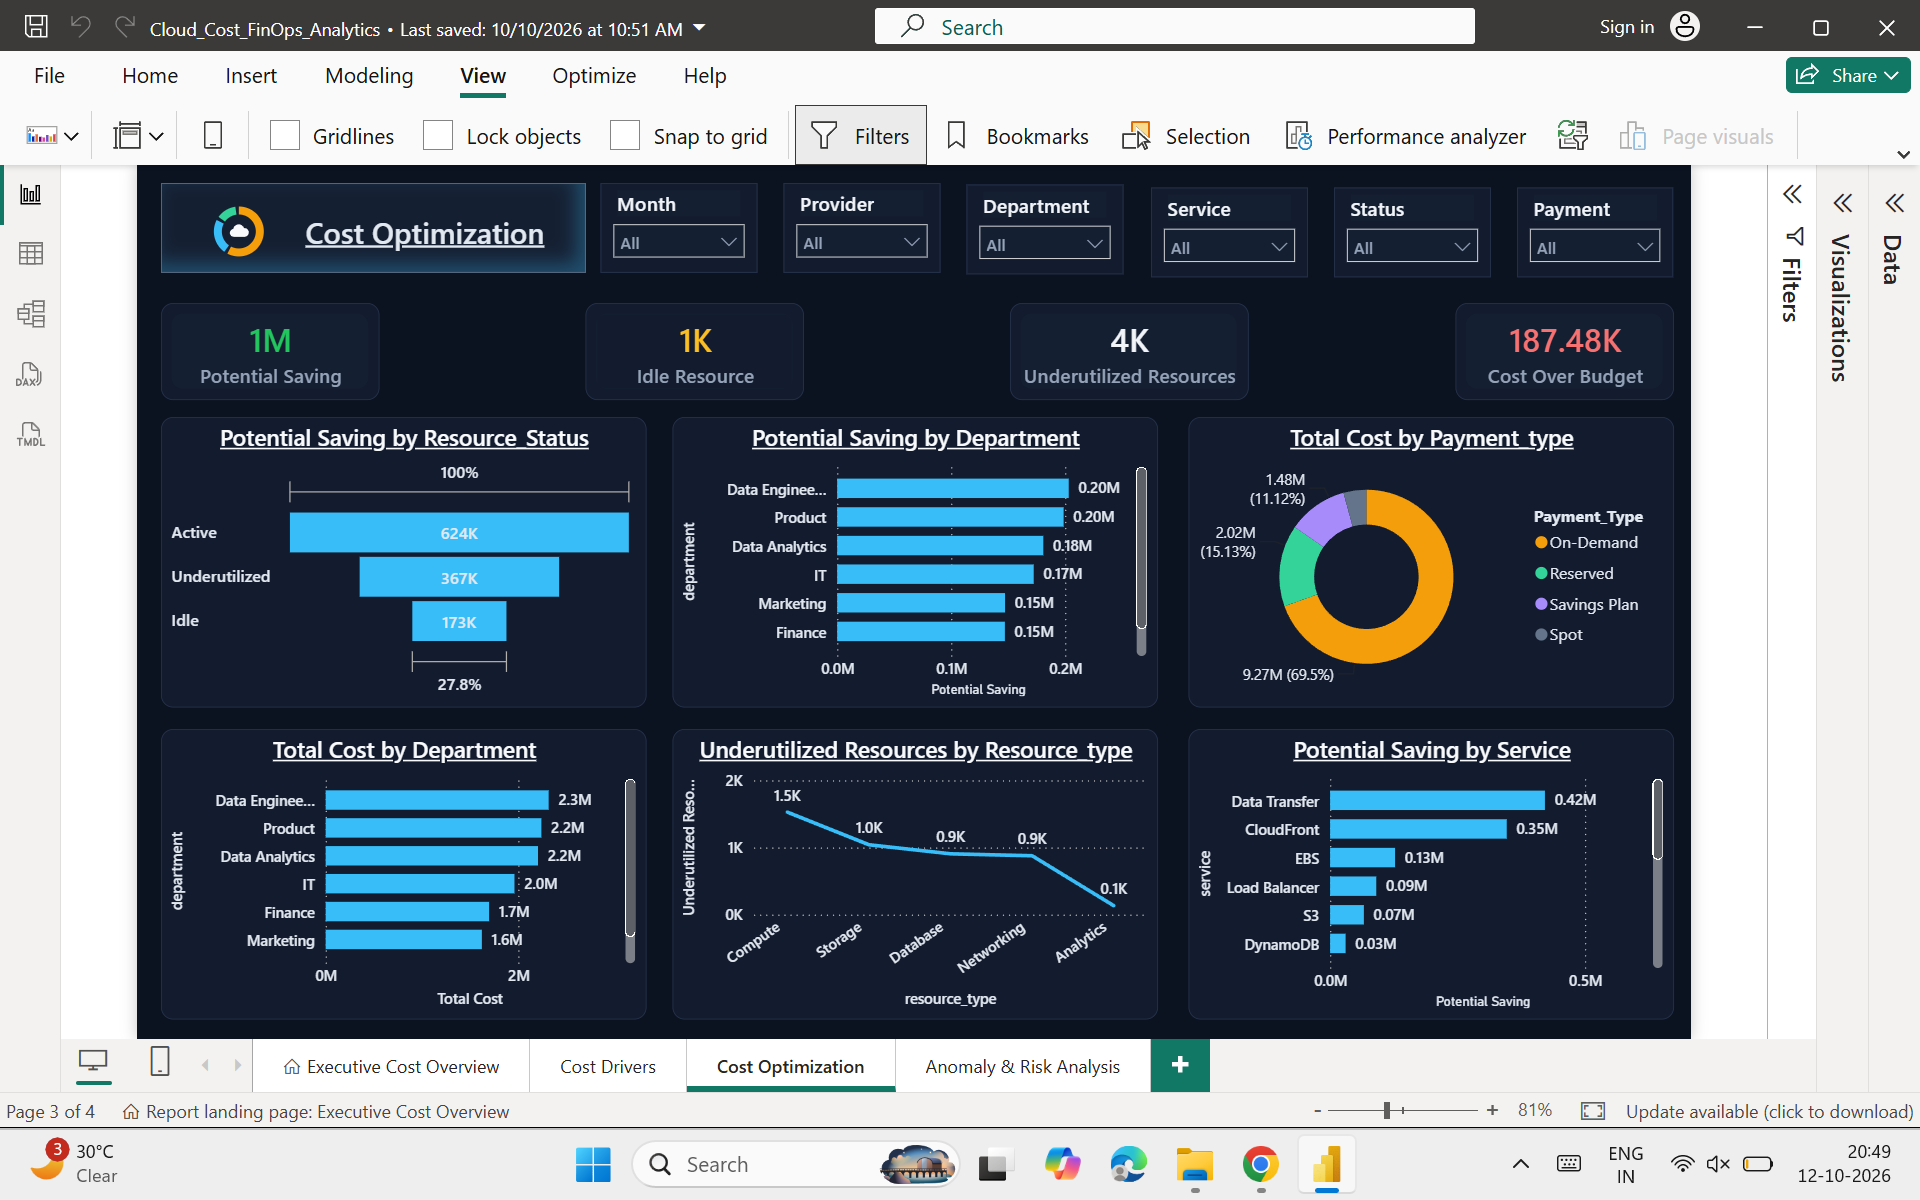

This screenshot's page, from the dashboard's own definition file:
{"tool":"powerbi","page":{"name":"Cost Optimization","canvas":[1280,720],"ordinal":2},"visuals":[{"type":"cardVisual","fields":{"Data":["measures (2).Potential Saving"]},"box":[19.7,114.1,180.2,80],"z":0},{"type":"cardVisual","fields":{"Data":["measures (2).Idle Resource"]},"box":[369.5,113.7,180,80],"z":1000},{"type":"cardVisual","fields":{"Data":["measures (2).Over Budget Cost"]},"box":[1085.7,113.6,180.2,80],"z":2000},{"type":"cardVisual","fields":{"Data":["measures (2).Underutilized Resources"]},"box":[719.2,114.1,196.8,80],"z":3000},{"type":"textbox","box":[19.7,15.1,349.8,74.2],"z":4000},{"type":"clusteredBarChart","title":"Potential Saving by Service","fields":{"Category":["cloud_cost_finops_cleaned.service"],"Y":["measures (2).Potential Saving"]},"box":[866.1,464.9,400,239.2],"z":5000},{"type":"clusteredBarChart","title":"Potential Saving by Department","fields":{"Category":["cloud_cost_finops_cleaned.department"],"Y":["measures (2).Potential Saving"]},"box":[440.6,207.4,399.8,239.2],"z":6000},{"type":"donutChart","title":"Total Cost by Payment_type","fields":{"Category":["cloud_cost_finops_cleaned.payment_type"],"Y":["measures (2).Total Cost"]},"box":[866.1,207.4,399.8,239.2],"z":7000},{"type":"clusteredBarChart","title":"Total Cost by Department","fields":{"Category":["cloud_cost_finops_cleaned.department"],"Y":["measures (2).Total Cost"]},"box":[19.7,464.9,400,239.2],"z":8000},{"type":"funnel","title":"Potential Saving by Resource_Status","fields":{"Category":["cloud_cost_finops_cleaned.resource_status"],"Y":["measures (2).Potential Saving"]},"box":[19.7,207.4,399.8,239.2],"z":9000},{"type":"lineChart","title":"Underutilized Resources by Resource_type","fields":{"Category":["cloud_cost_finops_cleaned.resource_type"],"Y":["measures (2).Underutilized Resources"]},"box":[440.6,464.9,399.8,239.2],"z":10000},{"type":"slicer","fields":{"Values":["cloud_cost_finops_cleaned.date.Variation.Date Hierarchy.Month"]},"box":[381.6,15.1,129,74],"z":11000},{"type":"slicer","fields":{"Values":["cloud_cost_finops_cleaned.department"]},"box":[683.8,16.7,129,74],"z":12000},{"type":"slicer","fields":{"Values":["cloud_cost_finops_cleaned.service"]},"box":[834.9,18.2,129,74],"z":13000},{"type":"slicer","fields":{"Values":["cloud_cost_finops_cleaned.resource_status"]},"box":[986.1,18.2,129,74],"z":14000},{"type":"slicer","fields":{"Values":["cloud_cost_finops_cleaned.payment_type"]},"box":[1137.2,18.2,128.7,74.2],"z":15000},{"type":"slicer","fields":{"Values":["cloud_cost_finops_cleaned.cloud_provider"]},"box":[532.7,15.1,129,74],"z":16000},{"type":"image","box":[30.3,28.8,106,53],"z":17000}]}

Visuals, with their boxes on the page's 1280x720 design canvas (x1, y1, x2, y2). These are canvas units, not pixel positions in the 1920x1200 screenshot, which may show the page scaled, cropped or inside an application window:
cardVisual - measures (2).Potential Saving: {"x1": 20, "y1": 114, "x2": 200, "y2": 194}
cardVisual - measures (2).Idle Resource: {"x1": 370, "y1": 114, "x2": 550, "y2": 194}
cardVisual - measures (2).Over Budget Cost: {"x1": 1086, "y1": 114, "x2": 1266, "y2": 194}
cardVisual - measures (2).Underutilized Resources: {"x1": 719, "y1": 114, "x2": 916, "y2": 194}
textbox: {"x1": 20, "y1": 15, "x2": 370, "y2": 89}
"Potential Saving by Service" clusteredBarChart: {"x1": 866, "y1": 465, "x2": 1266, "y2": 704}
"Potential Saving by Department" clusteredBarChart: {"x1": 441, "y1": 207, "x2": 840, "y2": 447}
"Total Cost by Payment_type" donutChart: {"x1": 866, "y1": 207, "x2": 1266, "y2": 447}
"Total Cost by Department" clusteredBarChart: {"x1": 20, "y1": 465, "x2": 420, "y2": 704}
"Potential Saving by Resource_Status" funnel: {"x1": 20, "y1": 207, "x2": 420, "y2": 447}
"Underutilized Resources by Resource_type" lineChart: {"x1": 441, "y1": 465, "x2": 840, "y2": 704}
slicer - cloud_cost_finops_cleaned.date.Variation.Date Hierarchy.Month: {"x1": 382, "y1": 15, "x2": 511, "y2": 89}
slicer - cloud_cost_finops_cleaned.department: {"x1": 684, "y1": 17, "x2": 813, "y2": 91}
slicer - cloud_cost_finops_cleaned.service: {"x1": 835, "y1": 18, "x2": 964, "y2": 92}
slicer - cloud_cost_finops_cleaned.resource_status: {"x1": 986, "y1": 18, "x2": 1115, "y2": 92}
slicer - cloud_cost_finops_cleaned.payment_type: {"x1": 1137, "y1": 18, "x2": 1266, "y2": 92}
slicer - cloud_cost_finops_cleaned.cloud_provider: {"x1": 533, "y1": 15, "x2": 662, "y2": 89}
image: {"x1": 30, "y1": 29, "x2": 136, "y2": 82}
